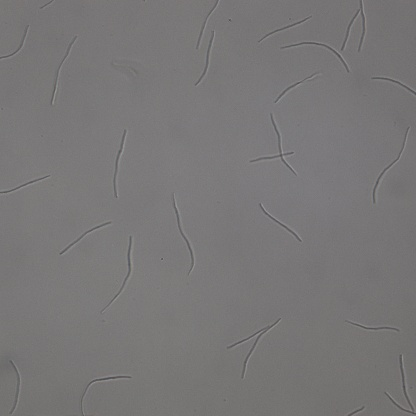Sensitive: (226, 317, 278, 379), (250, 113, 298, 176), (371, 126, 410, 203), (101, 235, 134, 312), (77, 374, 131, 416), (282, 40, 350, 71), (384, 354, 416, 414), (172, 193, 195, 276), (50, 36, 77, 106), (259, 202, 303, 242), (61, 220, 111, 253), (261, 15, 313, 42), (339, 1, 366, 53), (276, 73, 319, 103), (195, 31, 216, 86), (1, 173, 51, 195), (196, 1, 219, 48), (371, 75, 416, 99), (1, 25, 30, 62), (112, 128, 127, 198), (345, 319, 401, 334)
